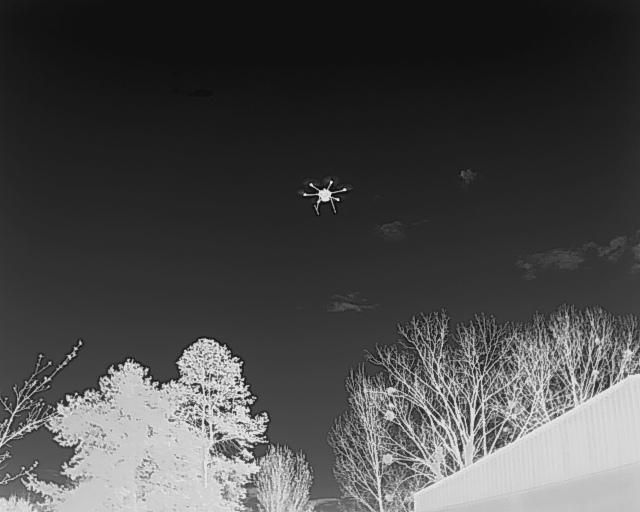drone: (295, 172, 351, 219)
